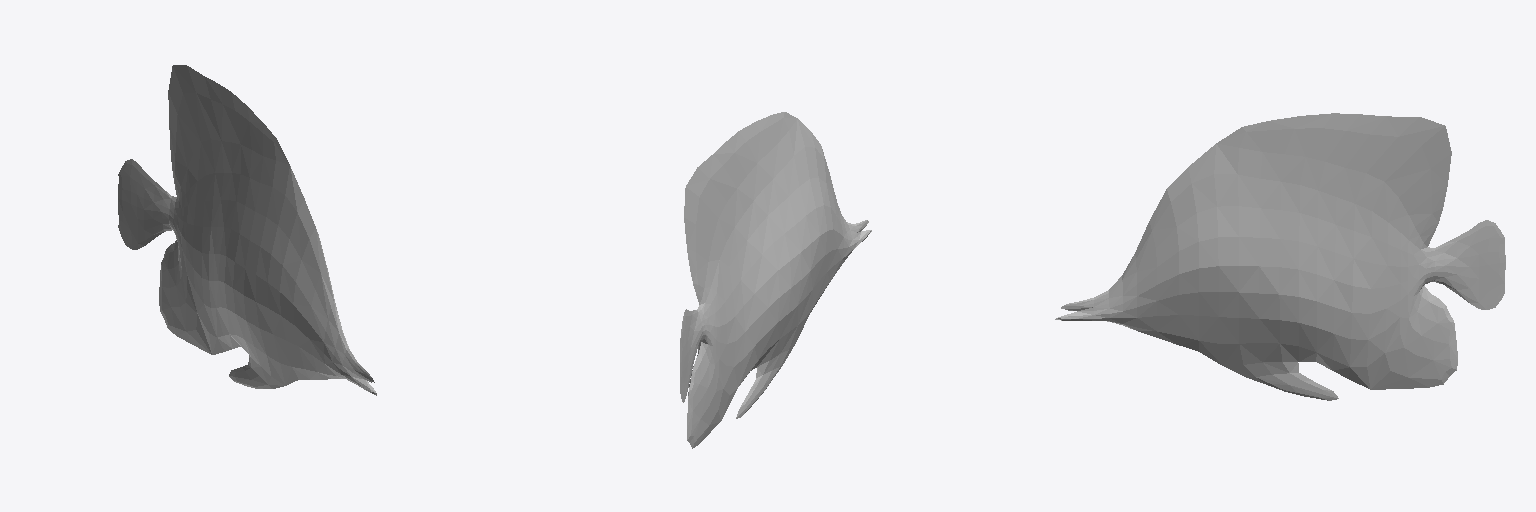
Rendered from ReefFish16.obj.
3 views of the same model, side by side, from view 1: azimuth 30°, elevation 25°; view 2: azimuth 150°, elevation 25°; view 3: azimuth 270°, elevation 25° (orthographic).
Visible parts, largest first — view 1: Plane; view 2: Plane; view 3: Plane.
Boxes of the visible parts, x1,y1,x2,y2 form: Plane: [118, 65, 376, 395]; Plane: [680, 112, 871, 448]; Plane: [1055, 113, 1505, 400].
Bounding box in the file's own units: 1.12 × 6.14 × 8.73.